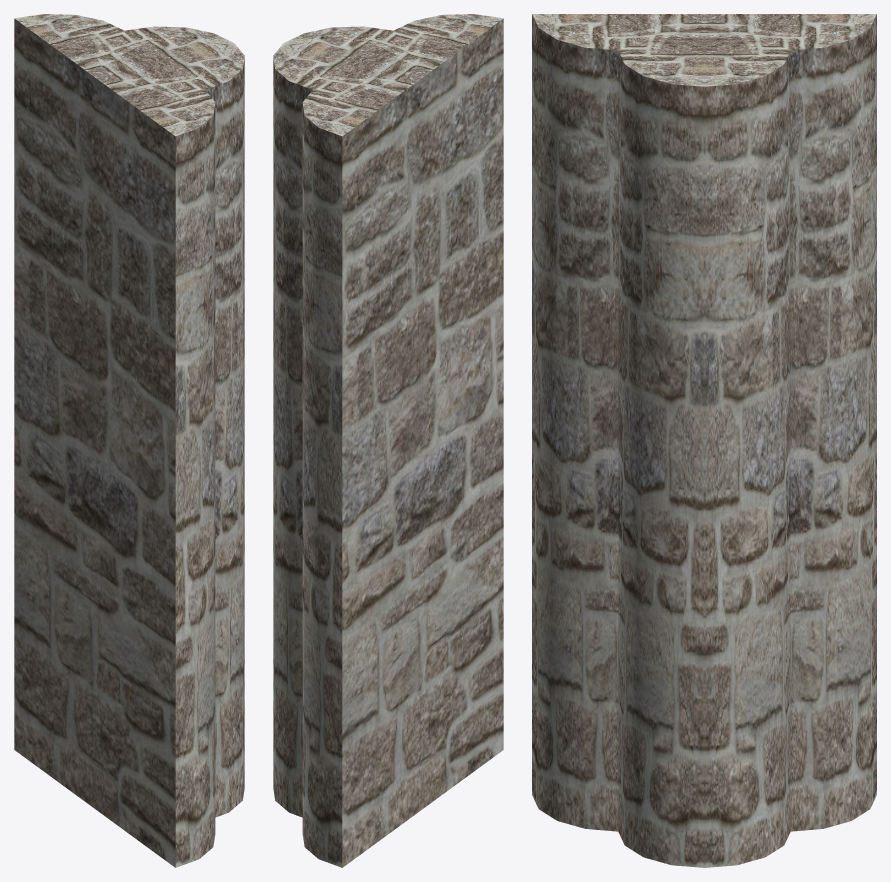
Rendered from wall_small4_half.obj.
3 views of the same model, side by side, from view 1: azimuth 30°, elevation 25°; view 2: azimuth 150°, elevation 25°; view 3: azimuth 270°, elevation 25° (orthographic). The views are drawn at different scales.
Bounding box in the file's own units: 0.3998 × 2 × 0.8.
Materials: 1 (1 with a texture image).
